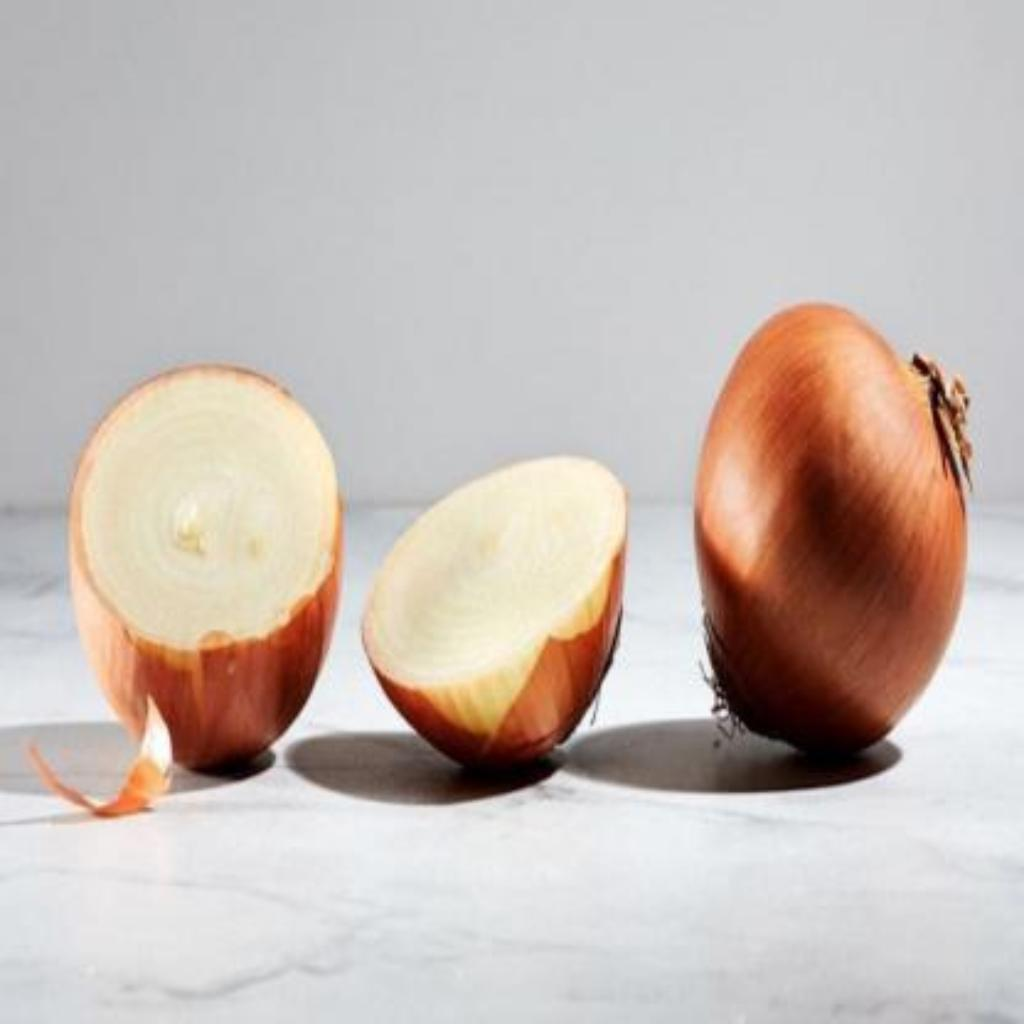Onion: (697, 305, 972, 756)
